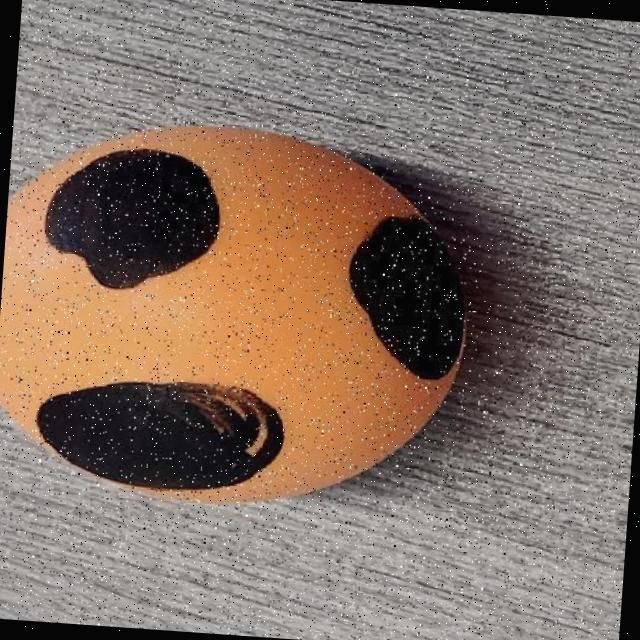ping-pong-ball: (0, 103, 486, 525)
